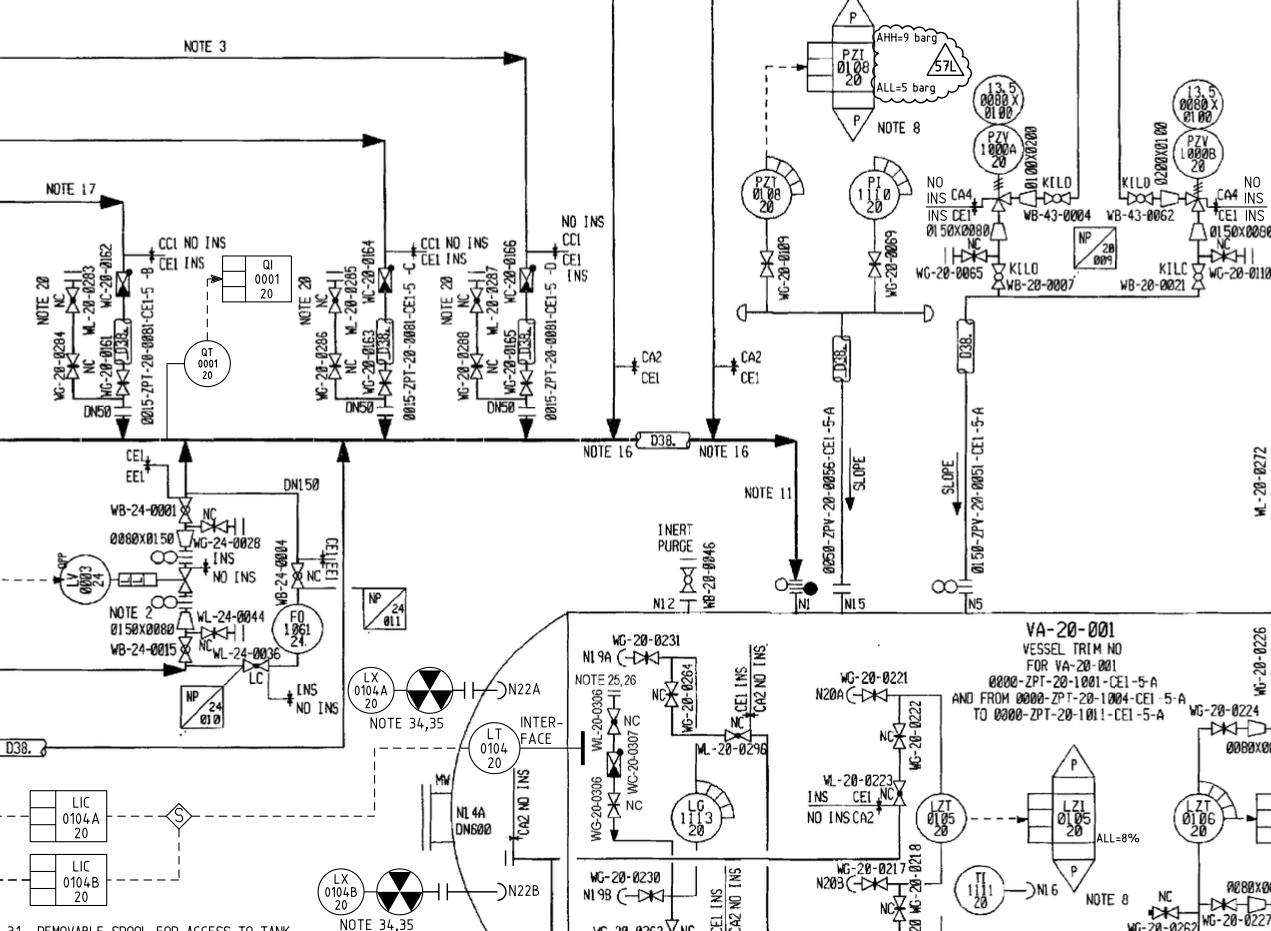Instrument: (1166, 787, 1228, 847), (949, 857, 1008, 918), (52, 548, 113, 607), (736, 165, 797, 223), (178, 332, 237, 391), (844, 165, 904, 223), (268, 601, 329, 658), (967, 118, 1025, 177), (665, 788, 723, 846), (910, 790, 969, 847), (461, 720, 521, 776), (1171, 128, 1227, 182), (347, 662, 397, 715), (316, 865, 365, 916)
Instrument-square: (50, 784, 112, 846), (53, 851, 112, 908), (826, 35, 880, 96), (1046, 787, 1099, 846), (242, 248, 294, 306)
